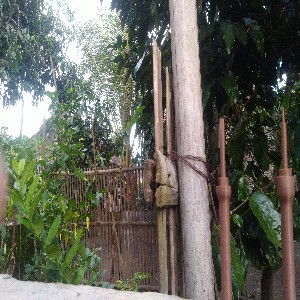obeng: (215, 117, 232, 300)
solder: (275, 105, 297, 300)
